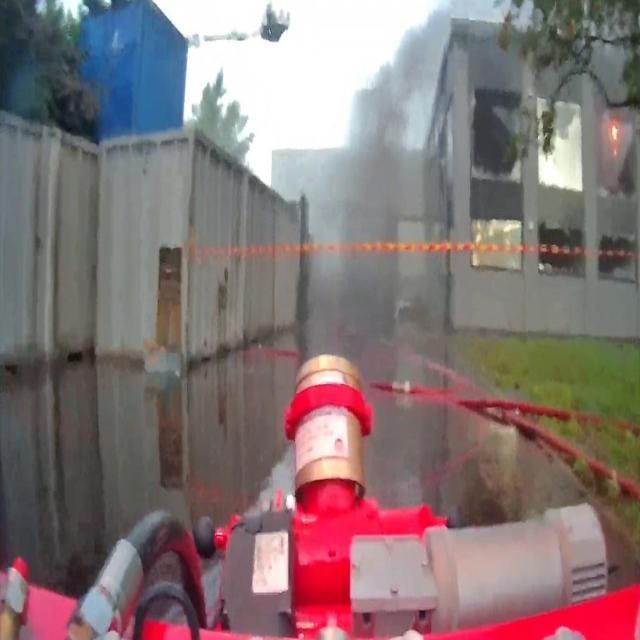Fire: (537, 96, 584, 190), (472, 221, 522, 265), (610, 125, 618, 156)
Smoke: (322, 0, 536, 335)
